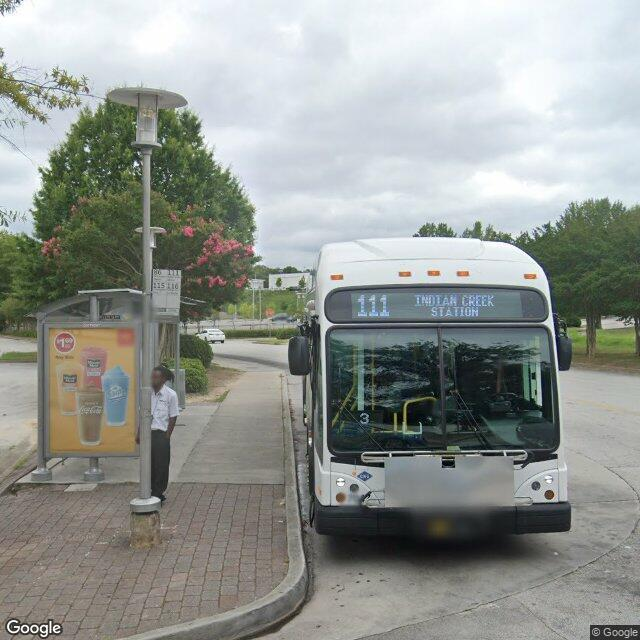shelter: (23, 288, 207, 485)
trash_can: (169, 368, 186, 410)
